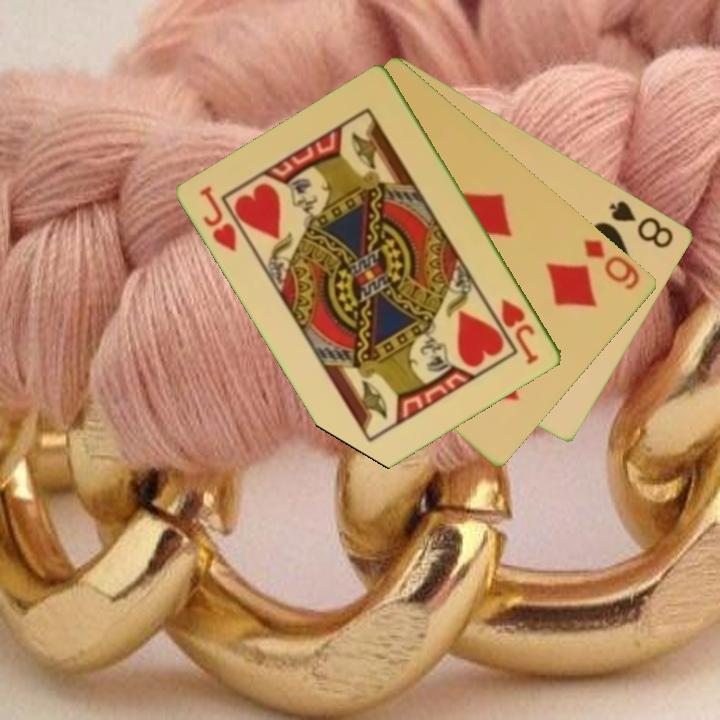6d: (580, 235, 643, 293)
8s: (606, 196, 677, 252)
Jh: (498, 295, 542, 368), (196, 182, 240, 255)
